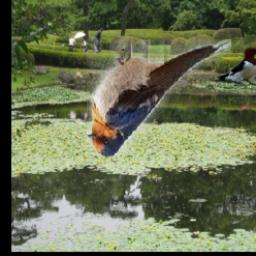Swallow: (87, 40, 231, 158)
Woodpecker: (214, 47, 256, 86)
